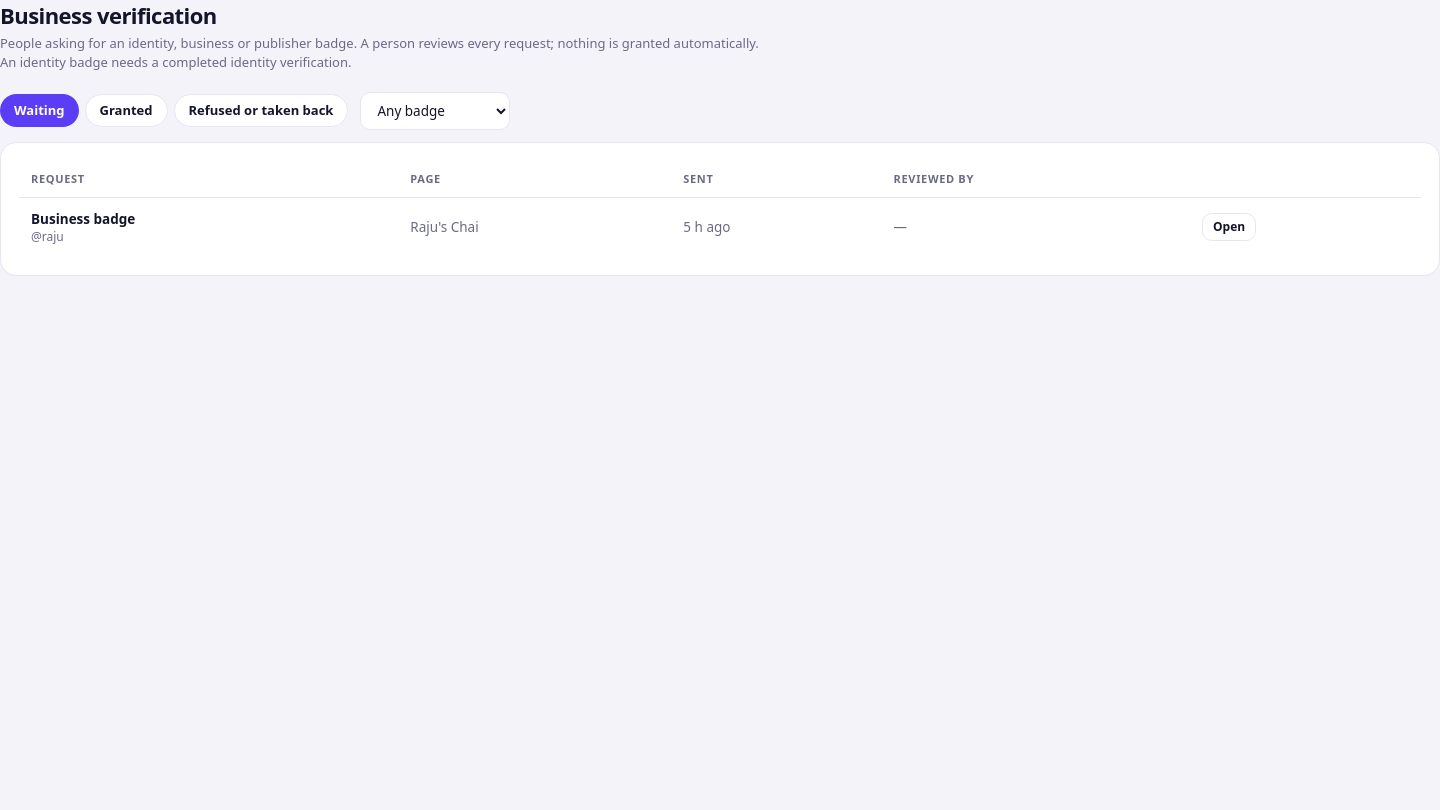
it: business verification › shows the evidence and says plainly that nothing was checked with an authority
This screenshot has width=1440, height=810.
Click the button with aria-label "Open Business badge request from raju": (1229, 227) 1202,213 -> 1256,241
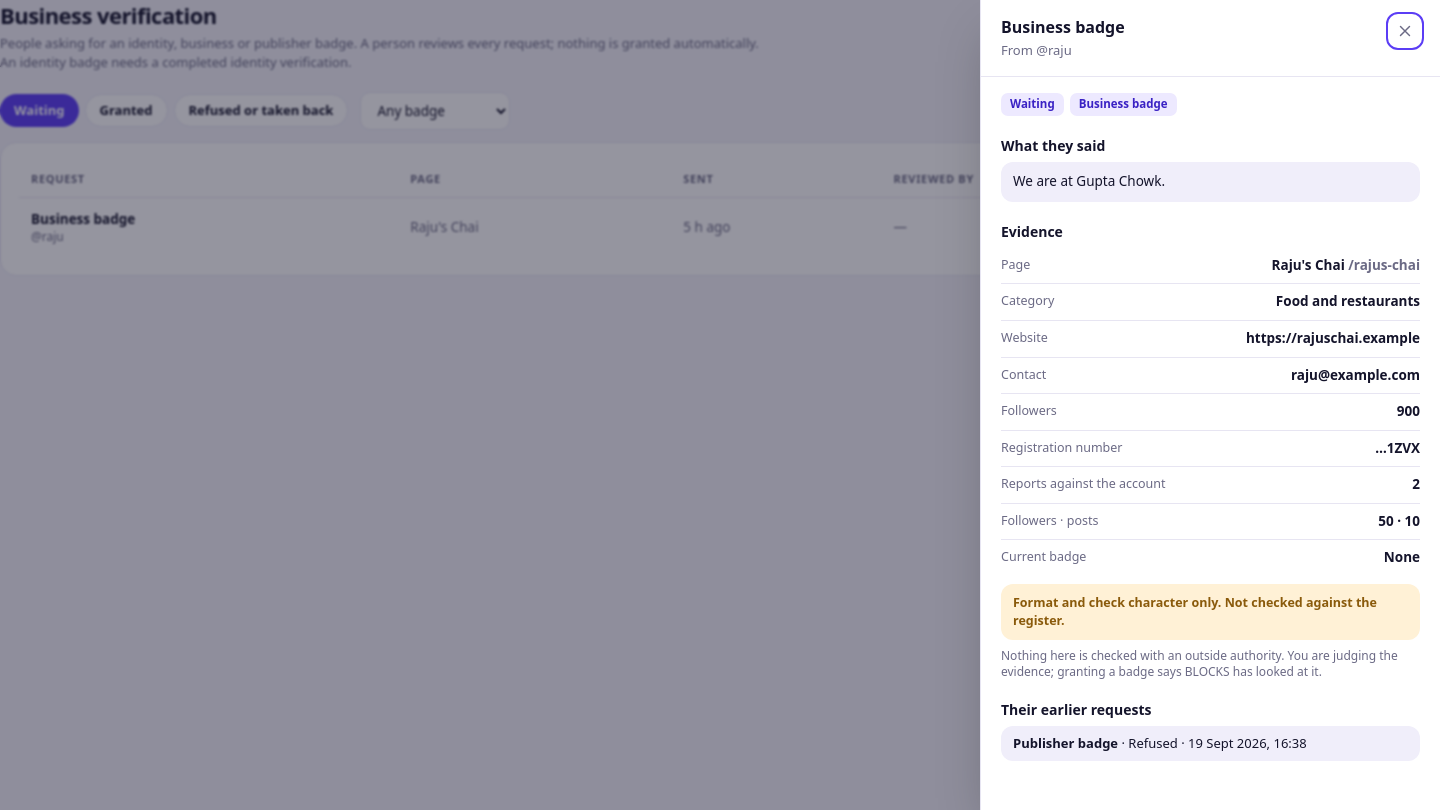
Expected: the dialog "Business badge" is shown, 980,0 -> 1439,809
Expected: the text "We are at Gupta Chowk." is shown, 1001,162 -> 1420,202
Expected: the text "…1ZVX" is shown, 1375,439 -> 1420,458
